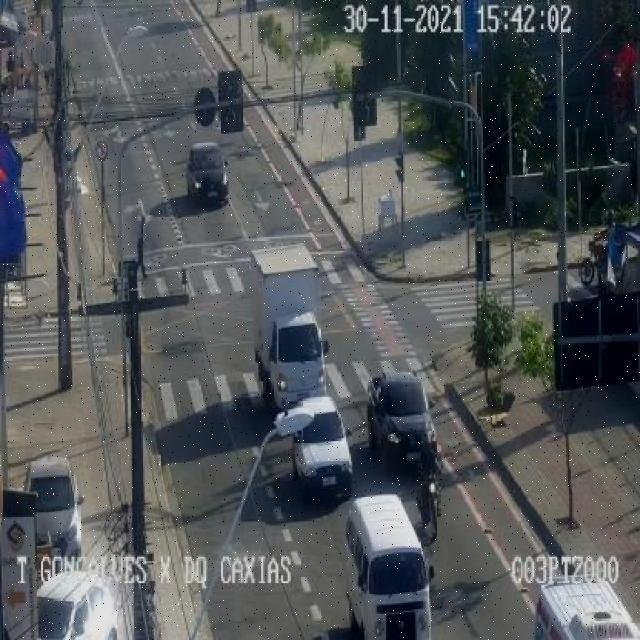car: (275, 396, 352, 497), (38, 571, 118, 640), (29, 458, 80, 556), (186, 142, 228, 201)
lorry: (254, 245, 326, 408), (368, 366, 436, 469)
minivan: (346, 495, 430, 640), (536, 582, 640, 640)
